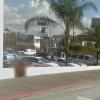Palm tree: (42, 0, 94, 62)
